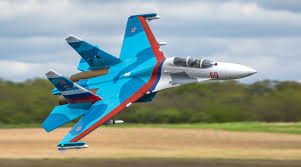maybay_muctieu: (44, 13, 260, 150)
